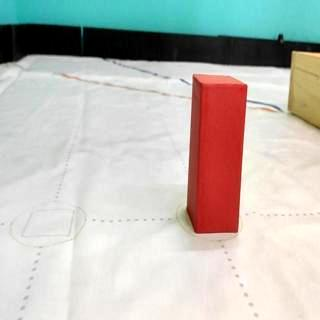redbox: (186, 74, 247, 234)
